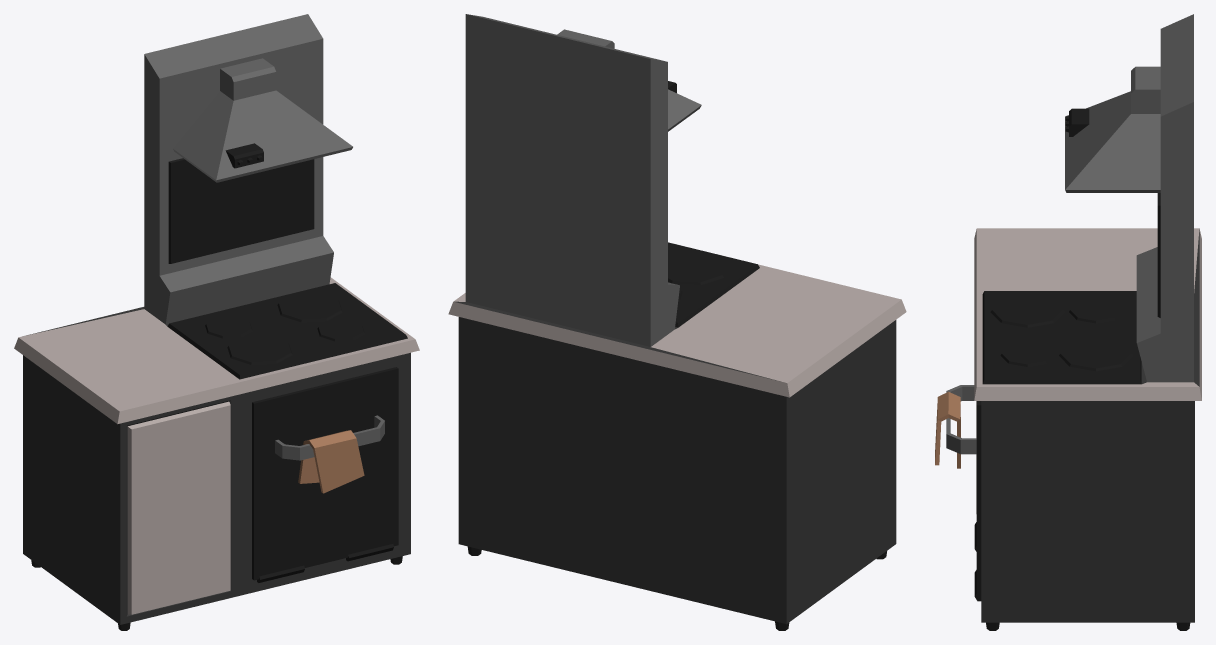
The model's file is CookerUnit.glb.
The picture shows the model from 3 angles, left to right: view 1: azimuth 30°, elevation 25°; view 2: azimuth 150°, elevation 25°; view 3: azimuth 270°, elevation 25°; orthographic projection. The views are drawn at different scales.
Parts seen in each view (by area): view 1: CookerUnit; view 2: CookerUnit; view 3: CookerUnit.
Part boxes in pixels (<box>): CookerUnit: <box>14,14,419,630</box>; CookerUnit: <box>448,14,906,630</box>; CookerUnit: <box>935,14,1201,630</box>.
Size of the model in its own units: 1.28 by 1.95 by 0.8918.
